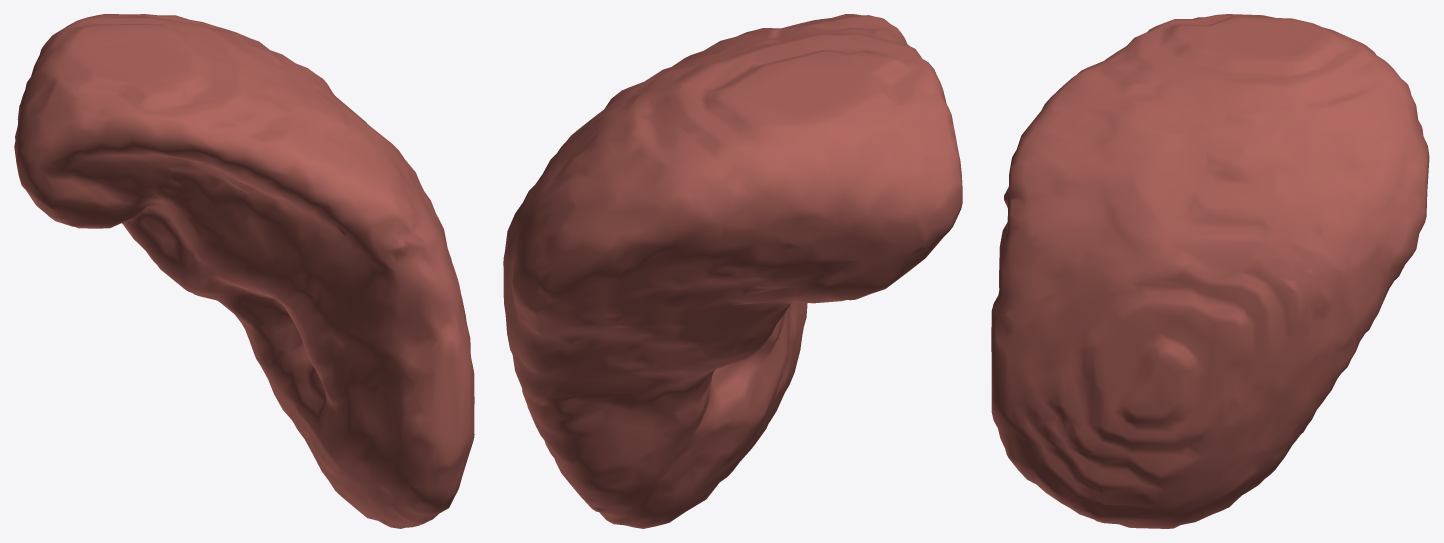
Rendered from tsd_s0327_older_adult_male.lymphatic.LOD1.glb.
3 renders of one model, left to right at view 1: azimuth 30°, elevation 25°; view 2: azimuth 150°, elevation 25°; view 3: azimuth 270°, elevation 25°, orthographic. The views are drawn at different scales.
Visible parts, largest first — view 1: TSD_S0327.OLDER_ADULT.MALE.LYMPHATIC.SPLEEN; view 2: TSD_S0327.OLDER_ADULT.MALE.LYMPHATIC.SPLEEN; view 3: TSD_S0327.OLDER_ADULT.MALE.LYMPHATIC.SPLEEN.
Part boxes in pixels (<box>): TSD_S0327.OLDER_ADULT.MALE.LYMPHATIC.SPLEEN: <box>14,14,474,528</box>; TSD_S0327.OLDER_ADULT.MALE.LYMPHATIC.SPLEEN: <box>503,14,962,528</box>; TSD_S0327.OLDER_ADULT.MALE.LYMPHATIC.SPLEEN: <box>991,14,1429,528</box>.
Size of the model in its own units: 0.0792 by 0.0946 by 0.0916.
